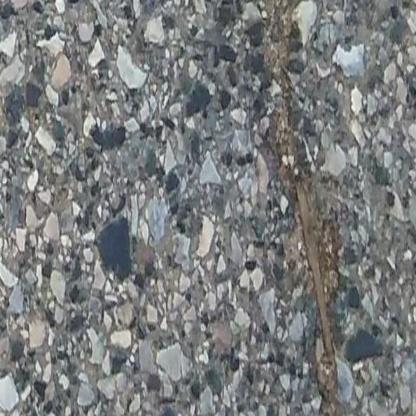Cracks: (246, 0, 349, 416)
